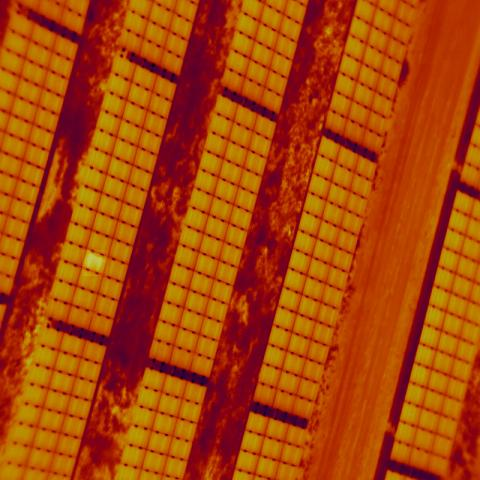fault: (82, 250, 108, 276)
